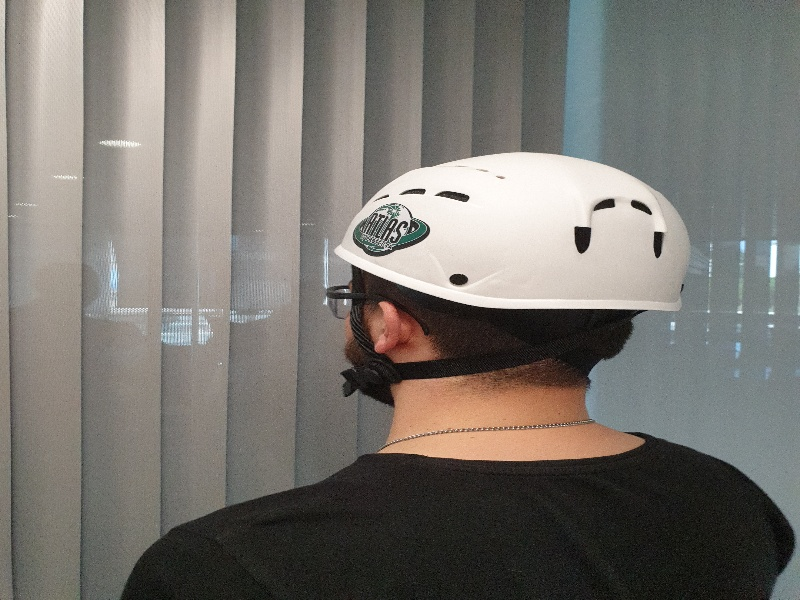Baret: (333, 150, 688, 317)
